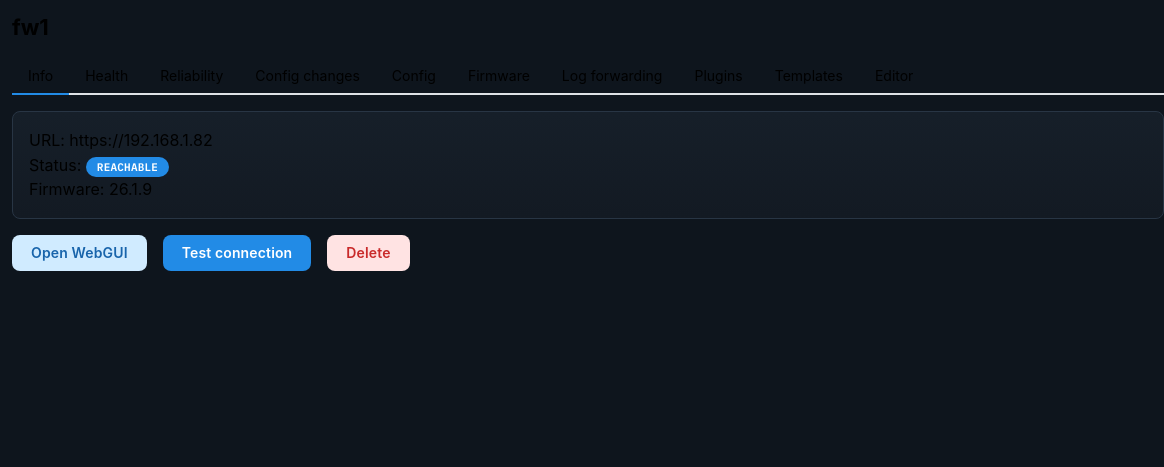
Scenario: DeviceDetailPage firmware tab › shows a Firmware tab and the WebGUI link
This screenshot has width=1164, height=467.
Note: switch to the Firmware tab (inactive Tabs.Panel mounts lazily on activation)
Step 1. Click the tab "Firmware" → [499, 77], box [452,59,546,95]
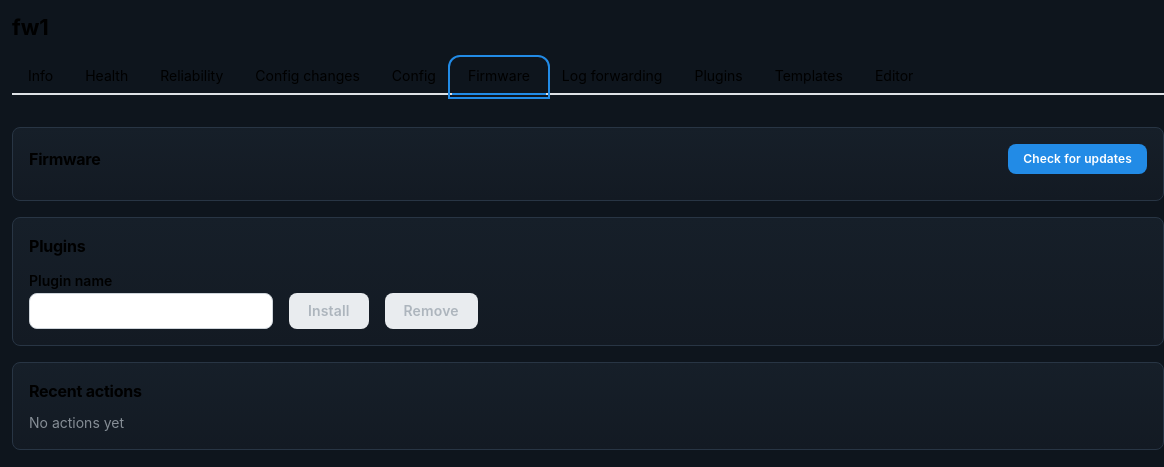
Now the button with test id "btn-fw-check" is shown, box [1008,144,1147,174]
